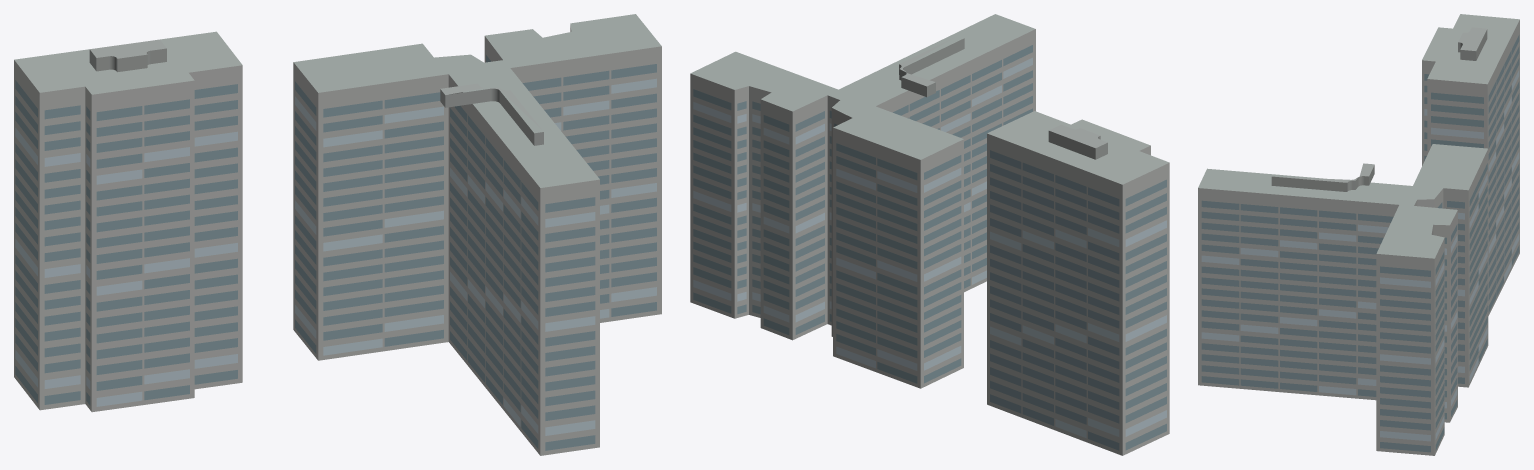
Rendered from apt-a15882103.glb.
3 views of the same model, side by side, from view 1: azimuth 30°, elevation 25°; view 2: azimuth 150°, elevation 25°; view 3: azimuth 270°, elevation 25° (orthographic). The views are drawn at different scales.
Visible parts, largest first — view 1: apt-a15882103; view 2: apt-a15882103; view 3: apt-a15882103.
Boxes of the visible parts, x1=… form: apt-a15882103: x1=14, y1=14, x2=661, y2=455; apt-a15882103: x1=690, y1=14, x2=1169, y2=455; apt-a15882103: x1=1198, y1=14, x2=1519, y2=455.
Bounding box in the file's own units: 108 × 59 × 70.61.
